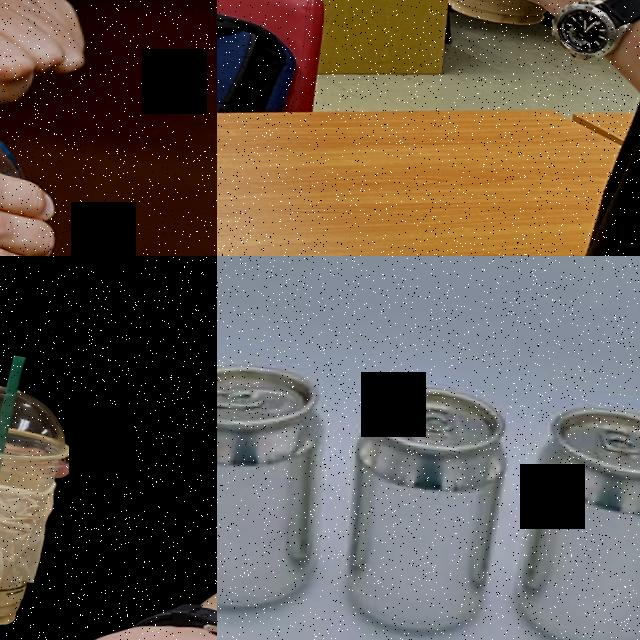bottle: (0, 42, 59, 256)
can: (331, 372, 514, 639), (217, 351, 342, 618), (511, 394, 640, 640)
cup: (0, 372, 83, 639)
